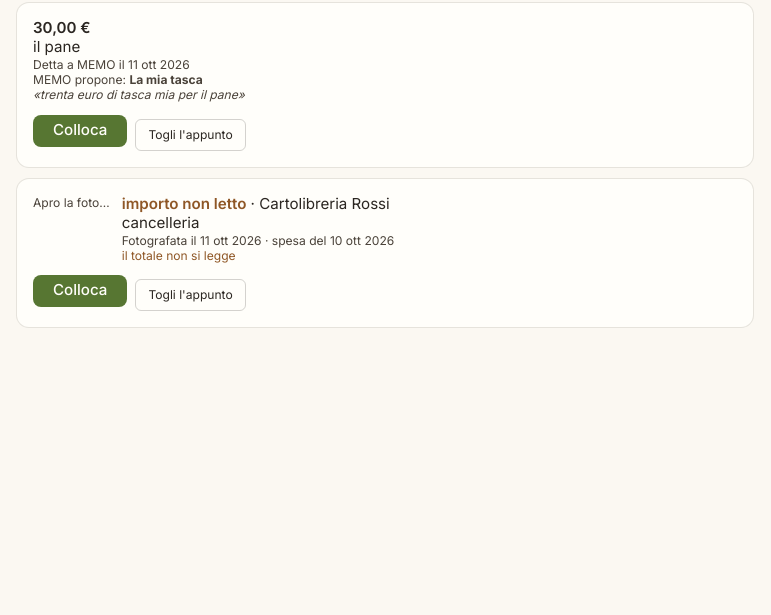
Da collocare › senza importo la prima nota non si può scegliere, e lo dice
The image size is (771, 615).
Expected: the text "cancelleria" is shown, [122,213,200,232]
Click the button "Colloca" below "Apro la foto…". click: (80, 291)
box: [33,275,127,307]
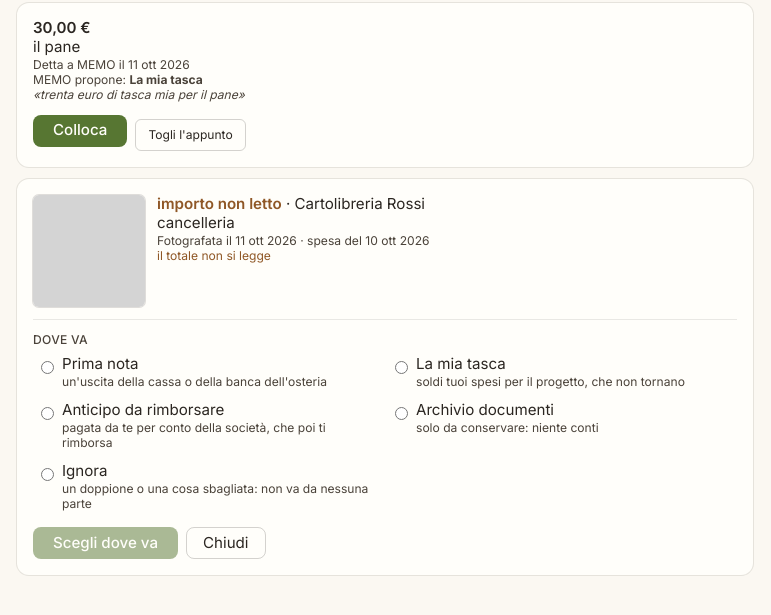
Click the radio button labelled "Prima nota un'uscita della cassa o della banca dell'osteria". click: (48, 367)
box: [41,361,54,374]
(page scrolled)
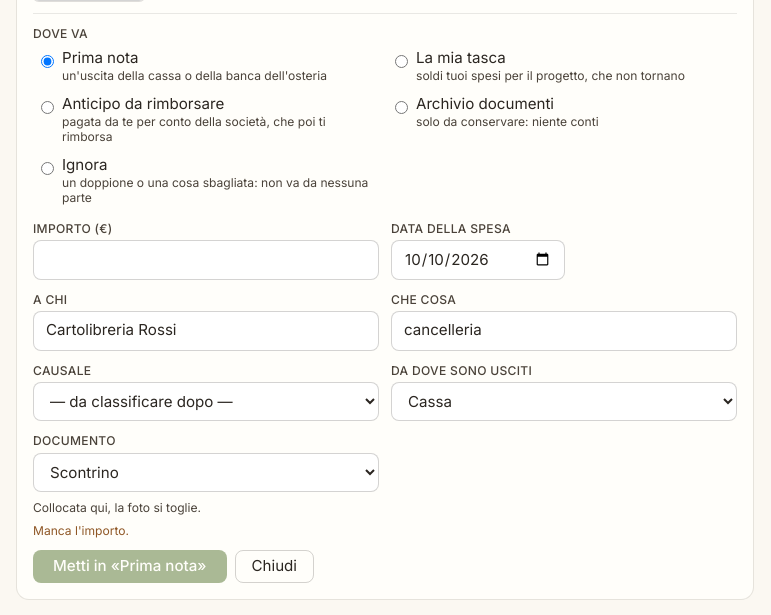
Now the button "Metti in «Prima nota»" is disabled, box [33,550,226,582]
Now the text "Manca l'importo." is shown, box [33,523,129,538]
